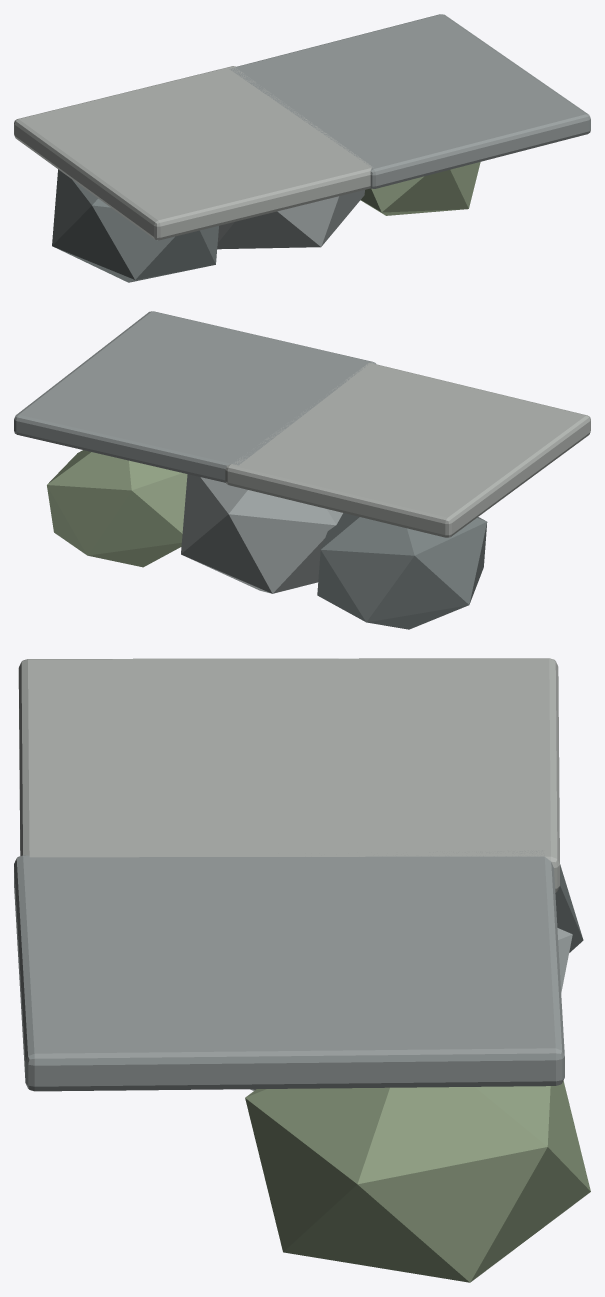
Rendered from overlook_ledge_4x2.glb.
3 views of the same model, one above another, from view 1: azimuth 30°, elevation 25°; view 2: azimuth 150°, elevation 25°; view 3: azimuth 270°, elevation 25° (orthographic). The views are drawn at different scales.
Parts seen in each view (by area): view 1: overlook_walkable_01, overlook_walkable_02, overlook_base_01, overlook_base_02, overlook_base_03; view 2: overlook_walkable_01, overlook_walkable_02, overlook_base_01, overlook_base_02, overlook_base_03; view 3: overlook_walkable_02, overlook_walkable_01, overlook_base_03, overlook_base_01.
Part boxes in pixels (x1,y1,x2,y2): overlook_walkable_01: [14, 66, 373, 240]; overlook_walkable_02: [229, 14, 590, 188]; overlook_base_01: [52, 169, 218, 282]; overlook_base_02: [217, 190, 364, 249]; overlook_base_03: [360, 162, 480, 215]; overlook_walkable_01: [225, 363, 590, 537]; overlook_walkable_02: [14, 311, 375, 482]; overlook_base_01: [317, 513, 487, 629]; overlook_base_02: [181, 474, 342, 593]; overlook_base_03: [47, 450, 187, 567]; overlook_walkable_02: [14, 850, 564, 1091]; overlook_walkable_01: [18, 658, 559, 892]; overlook_base_03: [245, 1080, 590, 1282]; overlook_base_01: [555, 864, 583, 952].
Bounding box in the file's own units: 4.15 × 1.41 × 2.51.
